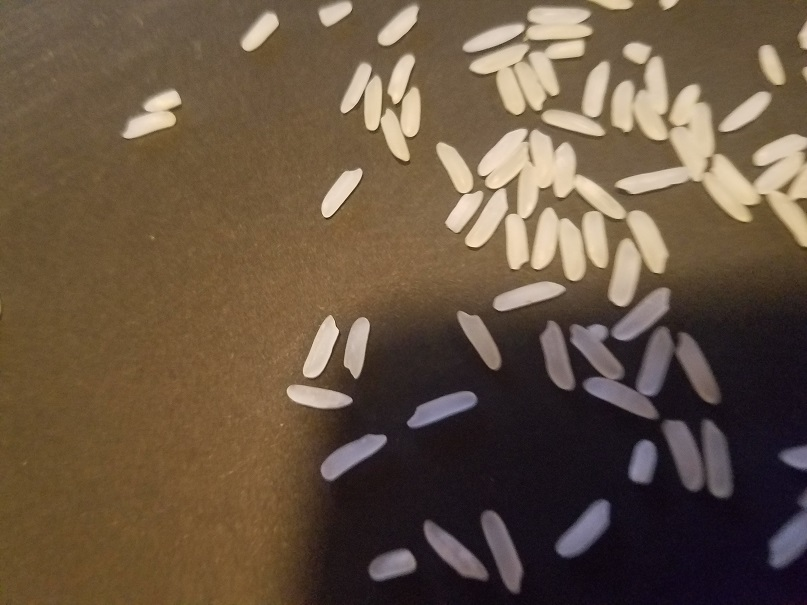egg: (478, 506, 527, 596), (422, 519, 491, 582), (552, 495, 616, 559), (580, 376, 664, 422), (673, 330, 724, 405), (318, 428, 388, 481), (565, 322, 626, 382), (610, 286, 672, 343), (661, 420, 706, 493), (455, 306, 503, 372), (625, 209, 671, 274), (405, 387, 480, 426), (537, 317, 576, 392), (463, 186, 508, 250), (700, 173, 756, 224), (700, 418, 735, 499), (633, 324, 672, 396), (710, 155, 761, 208), (752, 149, 807, 196), (300, 314, 340, 378), (477, 127, 526, 179), (606, 237, 642, 307), (572, 174, 628, 219), (318, 165, 363, 220), (768, 511, 807, 573), (491, 279, 566, 311), (484, 141, 532, 191), (717, 89, 771, 133), (614, 166, 688, 196), (766, 191, 807, 245), (460, 21, 526, 54), (468, 41, 530, 75), (669, 126, 707, 181), (631, 89, 671, 141), (435, 141, 474, 193), (284, 381, 353, 410), (376, 2, 420, 47), (541, 107, 607, 137), (750, 133, 807, 167), (337, 61, 372, 115), (558, 217, 587, 282), (581, 59, 612, 119), (513, 60, 548, 113), (530, 207, 558, 272), (239, 11, 281, 54), (445, 189, 485, 234), (580, 210, 610, 270), (120, 109, 178, 140), (344, 314, 371, 380), (377, 107, 409, 162), (368, 548, 419, 582), (527, 126, 554, 189), (643, 54, 670, 116), (386, 52, 417, 105), (525, 50, 559, 98), (627, 437, 659, 486), (495, 67, 526, 117), (688, 102, 716, 157), (504, 212, 529, 273), (610, 78, 635, 135), (516, 162, 540, 220), (668, 83, 701, 125), (552, 141, 576, 197), (756, 43, 787, 86), (527, 4, 590, 24), (361, 75, 382, 133), (400, 85, 421, 139), (140, 86, 183, 112), (524, 24, 593, 40), (316, 1, 353, 27), (544, 39, 585, 61), (785, 163, 807, 202), (621, 41, 652, 66), (778, 444, 807, 470), (587, 322, 609, 344), (595, 1, 634, 12), (656, 1, 679, 10)
